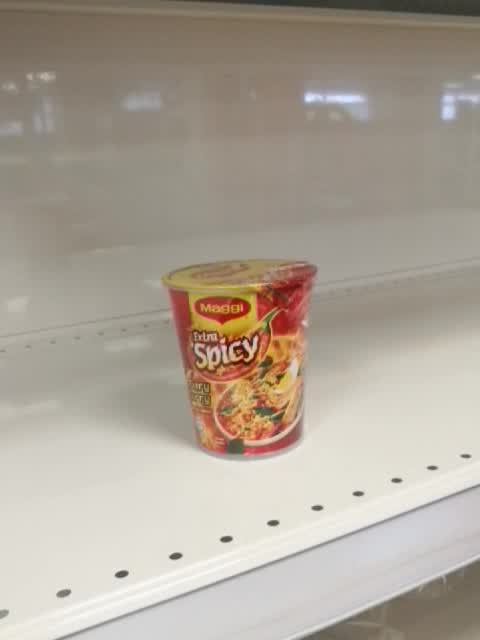maggi: (160, 257, 319, 462)
